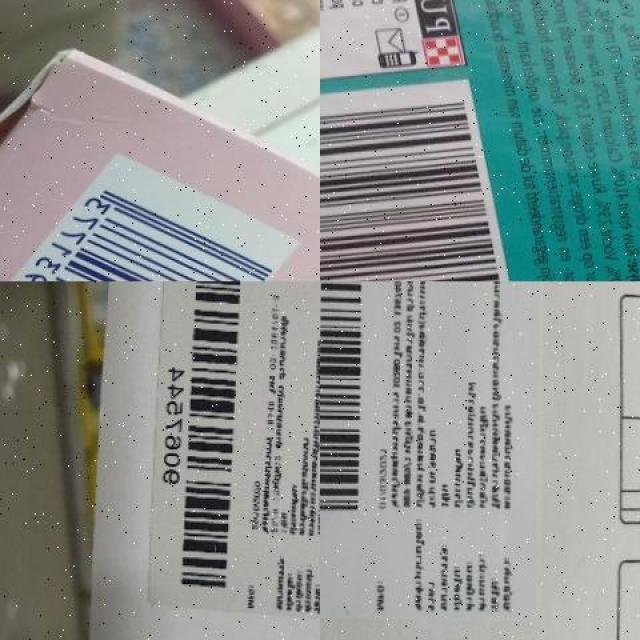Barcode: (320, 75, 523, 281), (0, 147, 303, 281), (159, 281, 245, 604), (320, 281, 375, 523)
